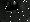person: (13, 4, 19, 14), (7, 4, 12, 16)
